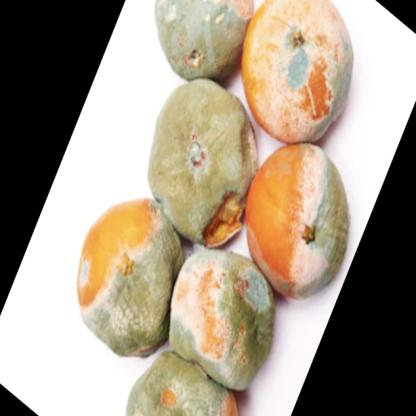rotten: (76, 2, 354, 416)
